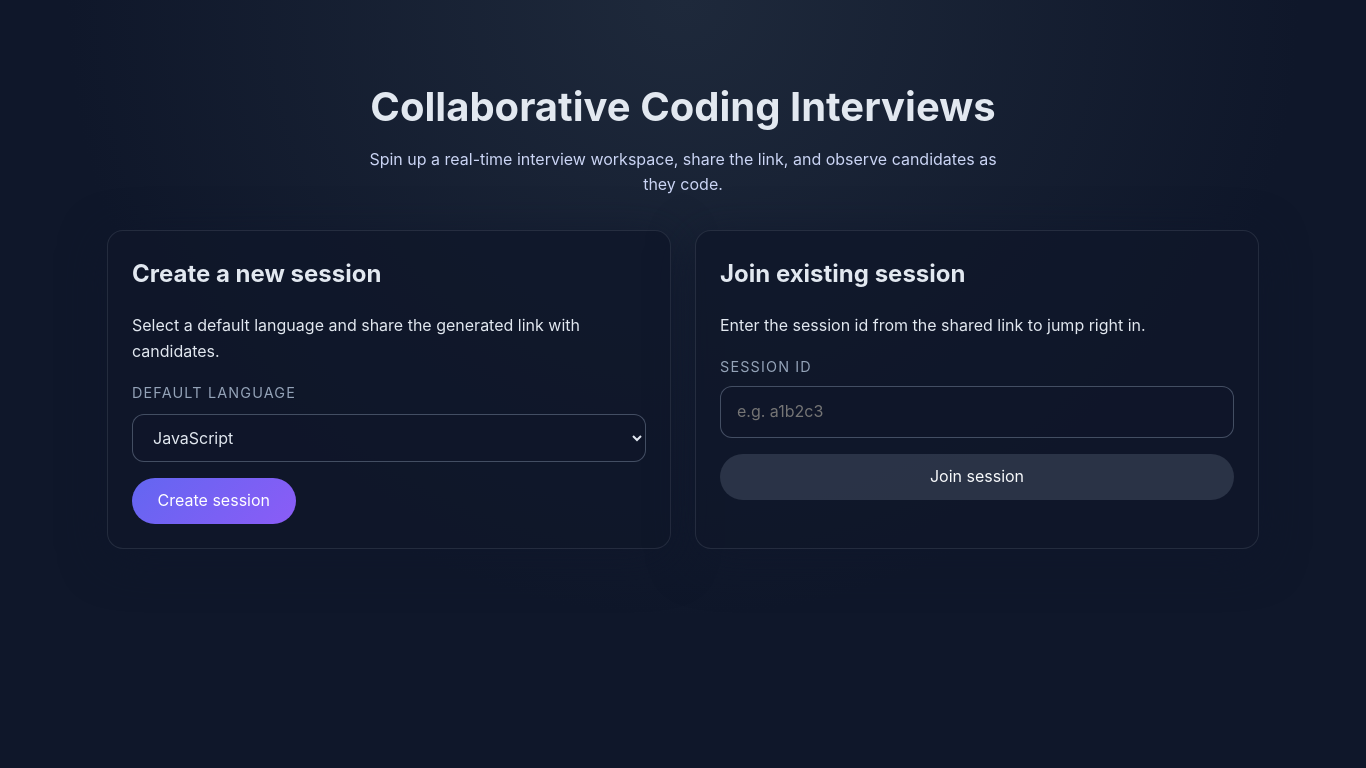
HomePage › creates a session and surfaces the share link
This screenshot has width=1366, height=768.
Step 1. Click the button "Create session" → (214, 501), box x1=132 y1=478 x2=296 y2=524
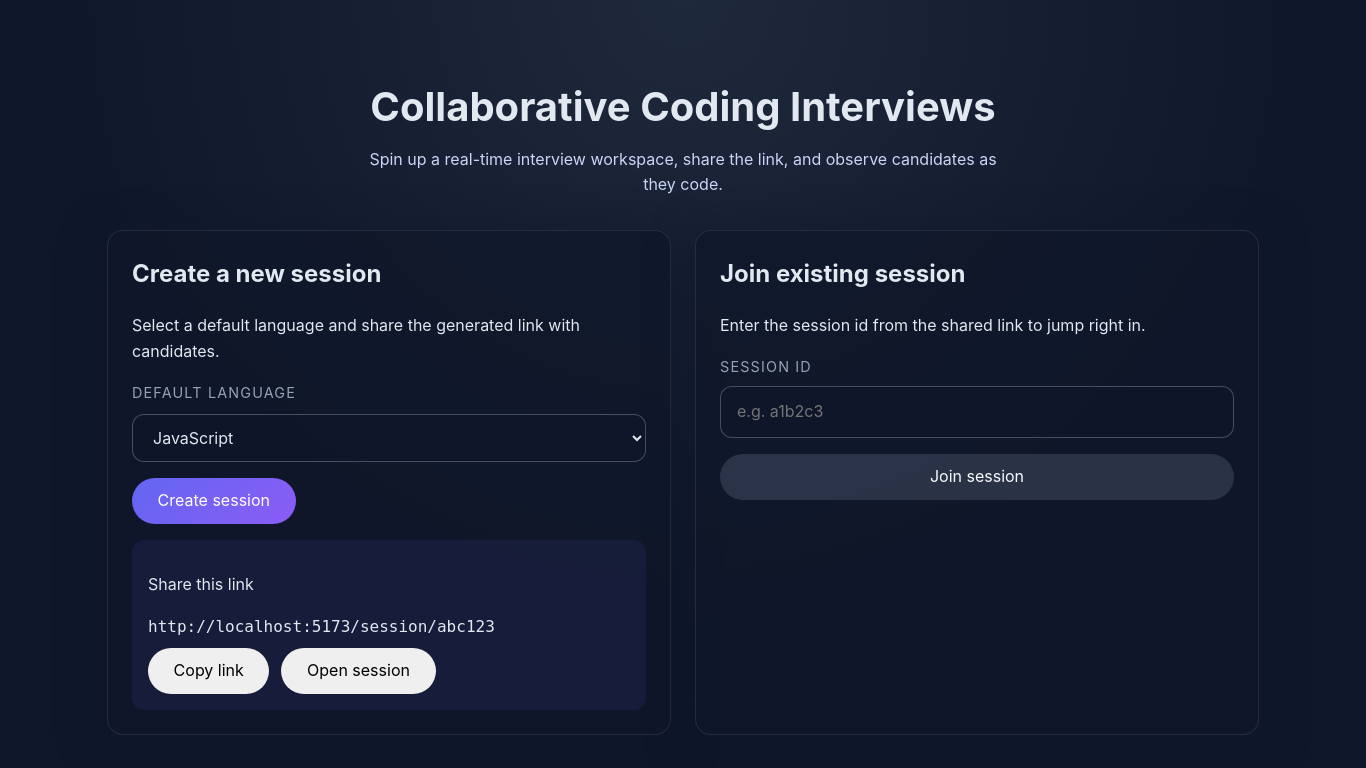
expect the text "http://localhost:5173/session/abc123" is shown: met, box x1=148 y1=617 x2=495 y2=636
expect the button "Open session" is enabled: met, box x1=281 y1=648 x2=436 y2=694
